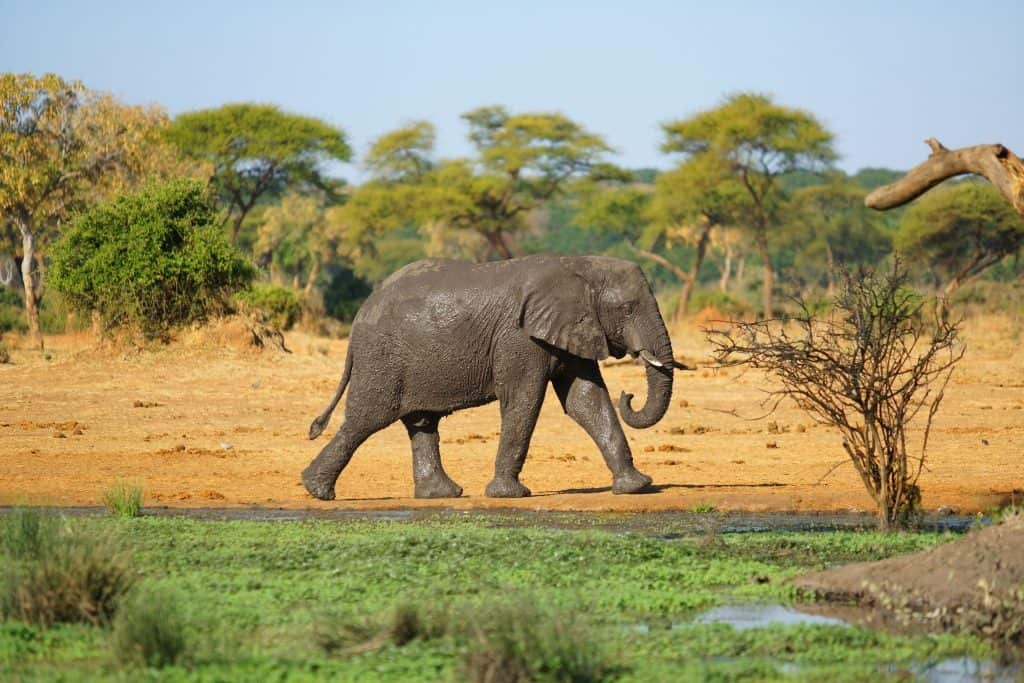elephant: (288, 254, 675, 503)
